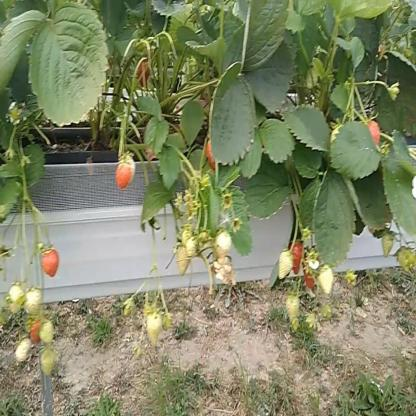ripe: (204, 135, 226, 175), (136, 56, 152, 92), (40, 249, 59, 277), (302, 259, 317, 291), (367, 119, 384, 146), (116, 161, 130, 191), (28, 316, 42, 345), (292, 242, 303, 272)
unripe: (286, 294, 300, 332), (23, 287, 40, 317), (146, 314, 162, 345), (214, 231, 232, 258), (277, 248, 293, 278), (39, 347, 58, 372), (319, 264, 333, 295), (16, 336, 31, 364), (8, 285, 22, 315), (41, 320, 55, 343), (178, 245, 188, 276), (382, 232, 394, 257), (186, 234, 198, 258), (181, 226, 189, 245)
